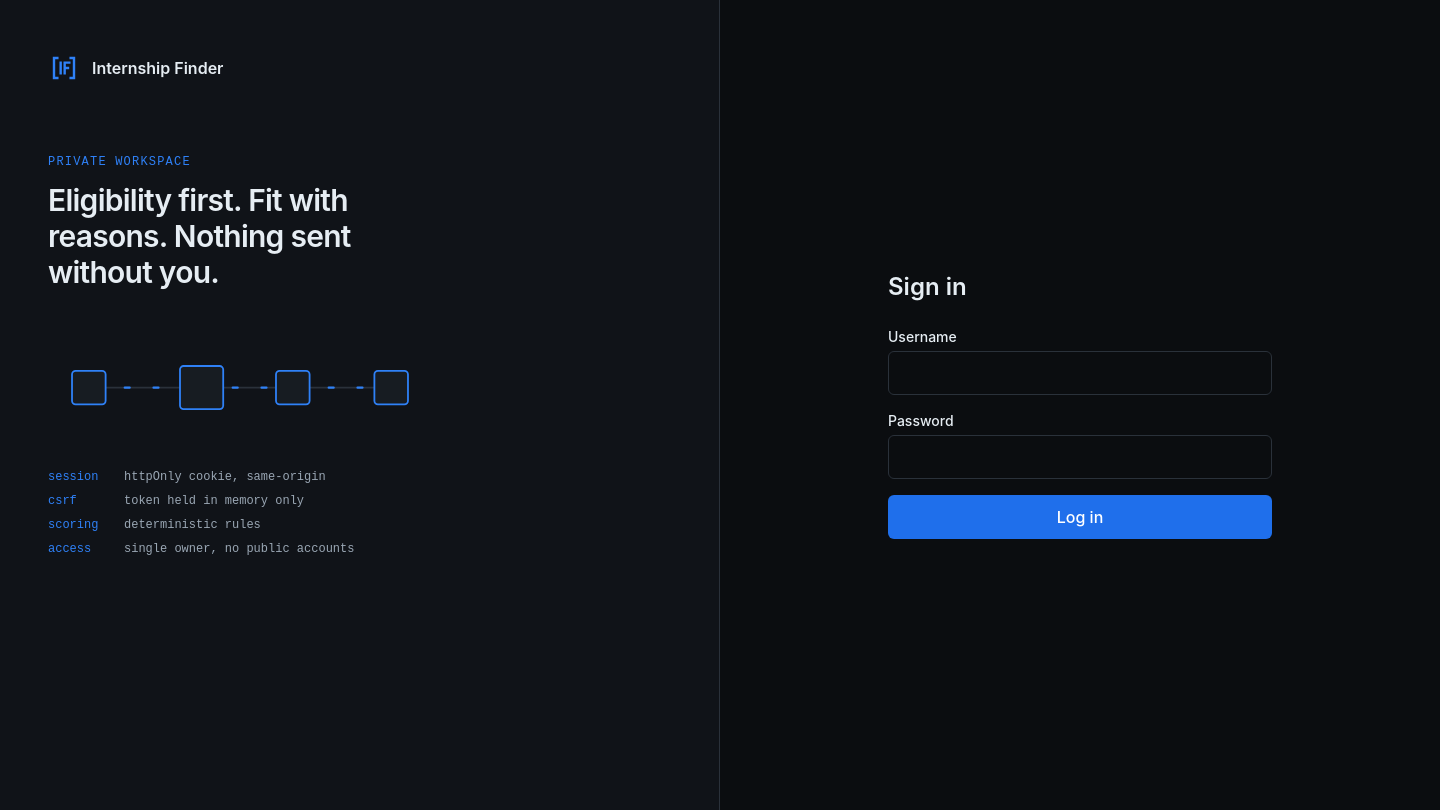
Test case: login states › marks the password invalid on wrong credentials
Check: the form "Log in" is shown, box [888, 327, 1272, 539]
Type "synthetic-owner" into the field labelled "Username" at {"x": 1080, "y": 373}, box [888, 351, 1272, 395]
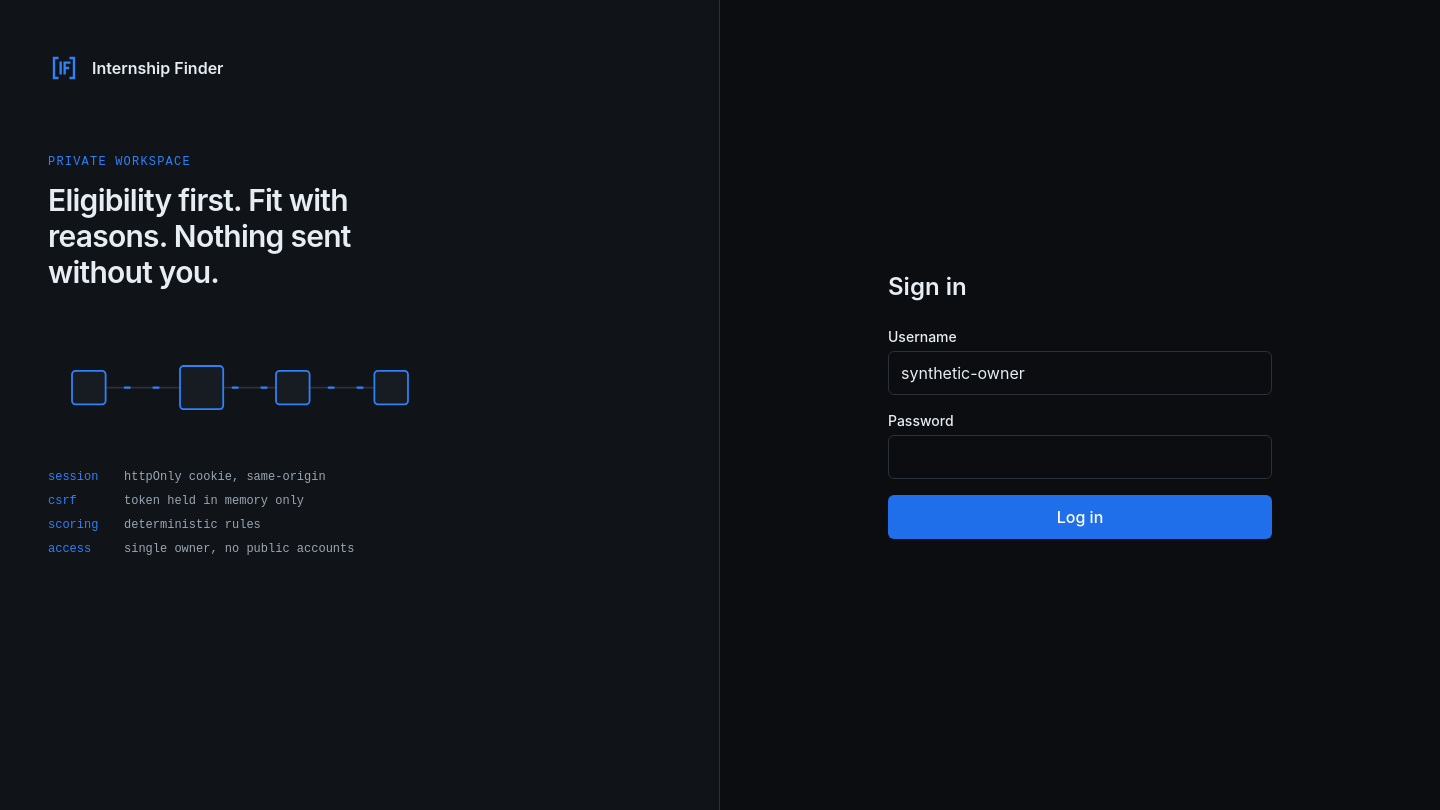
Type "pw" into the password field labelled "Password" at {"x": 1080, "y": 457}, box [888, 435, 1272, 479]
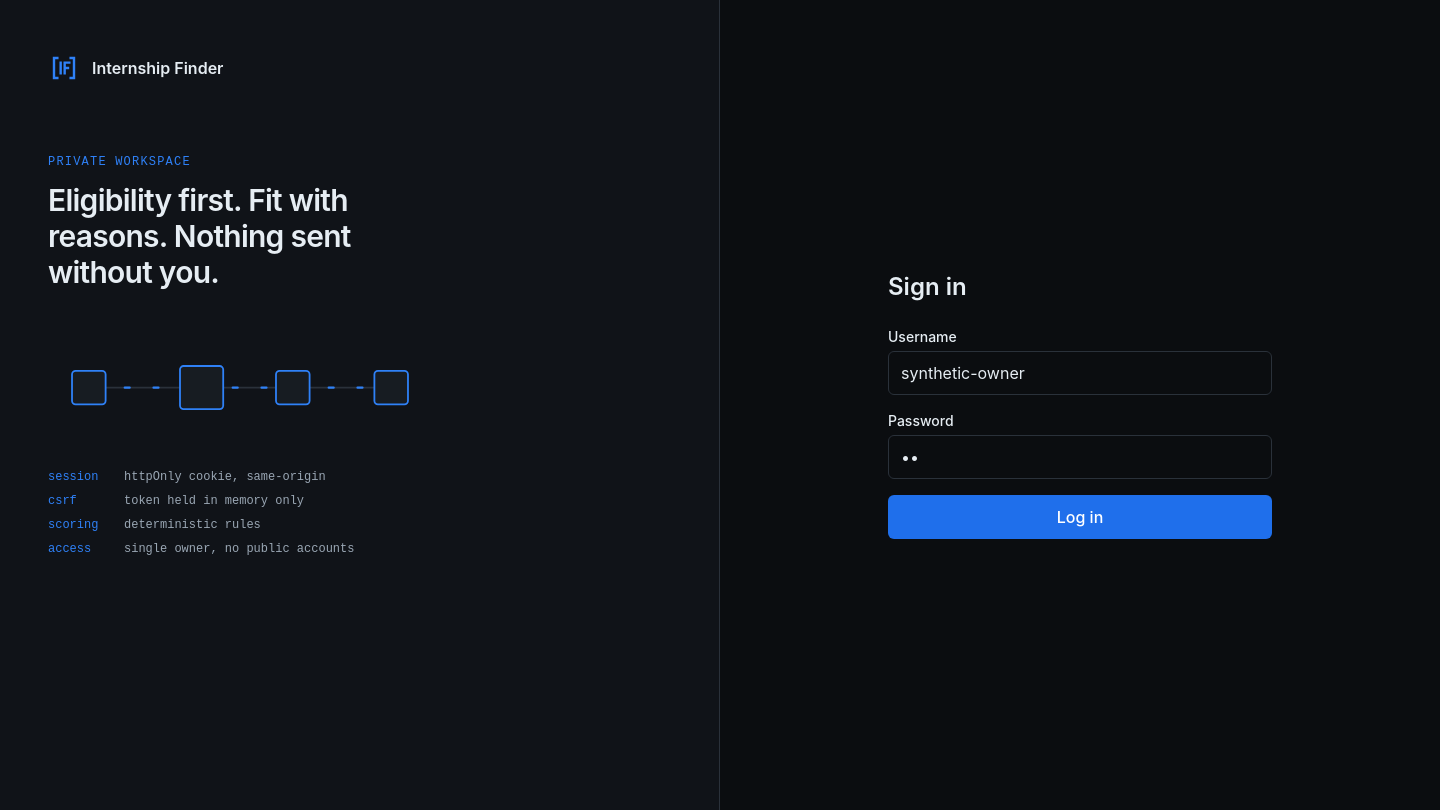
Click the button "Log in" at {"x": 1080, "y": 517}, box [888, 495, 1272, 539]
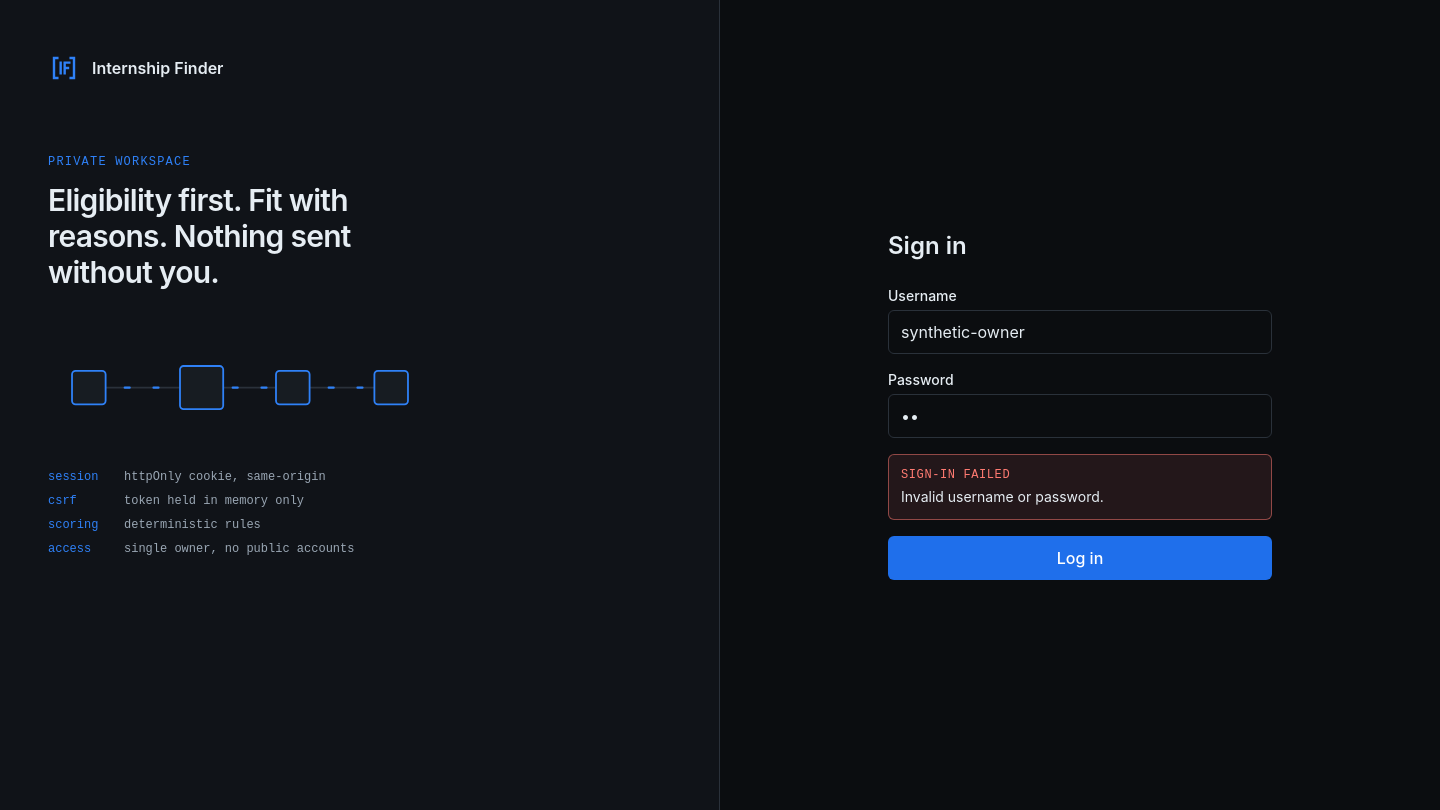
Check: the message "Invalid username or password." is shown, box [901, 488, 1104, 505]
